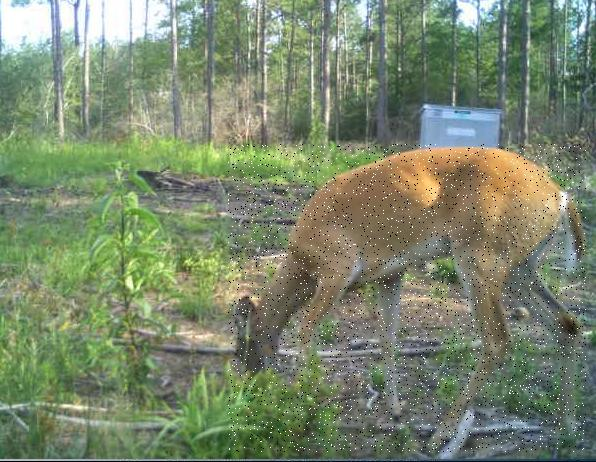Deer: (228, 145, 586, 453)
